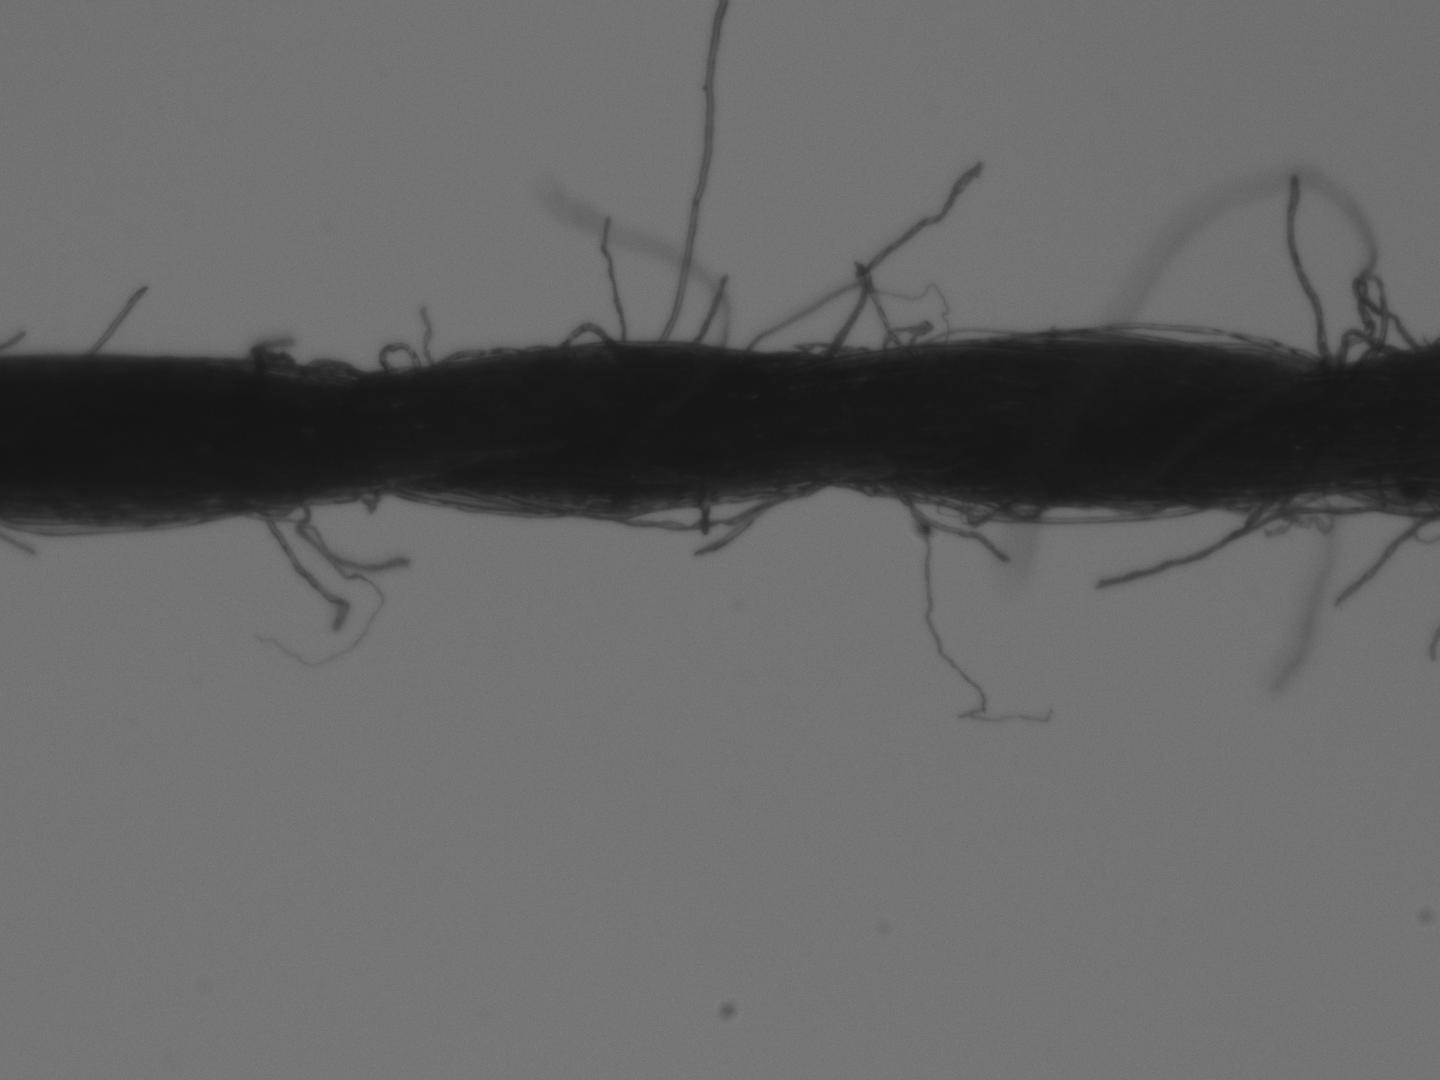loop_fiber: (1014, 317, 1272, 354), (586, 486, 794, 531), (1330, 271, 1420, 365), (920, 488, 1016, 531), (1213, 483, 1315, 517), (553, 318, 616, 351), (240, 338, 293, 373), (294, 356, 369, 380), (1338, 332, 1387, 369), (883, 320, 935, 351), (981, 496, 1044, 520), (378, 339, 424, 371)
protruding_fiber: (652, 0, 730, 345), (1092, 492, 1296, 591), (249, 505, 349, 633), (1286, 179, 1329, 362), (84, 279, 154, 354), (602, 210, 628, 340), (692, 280, 727, 347)
